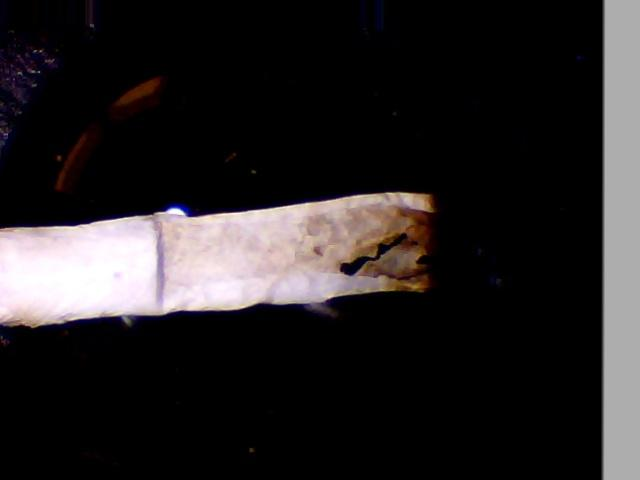megot: (1, 162, 463, 337)
